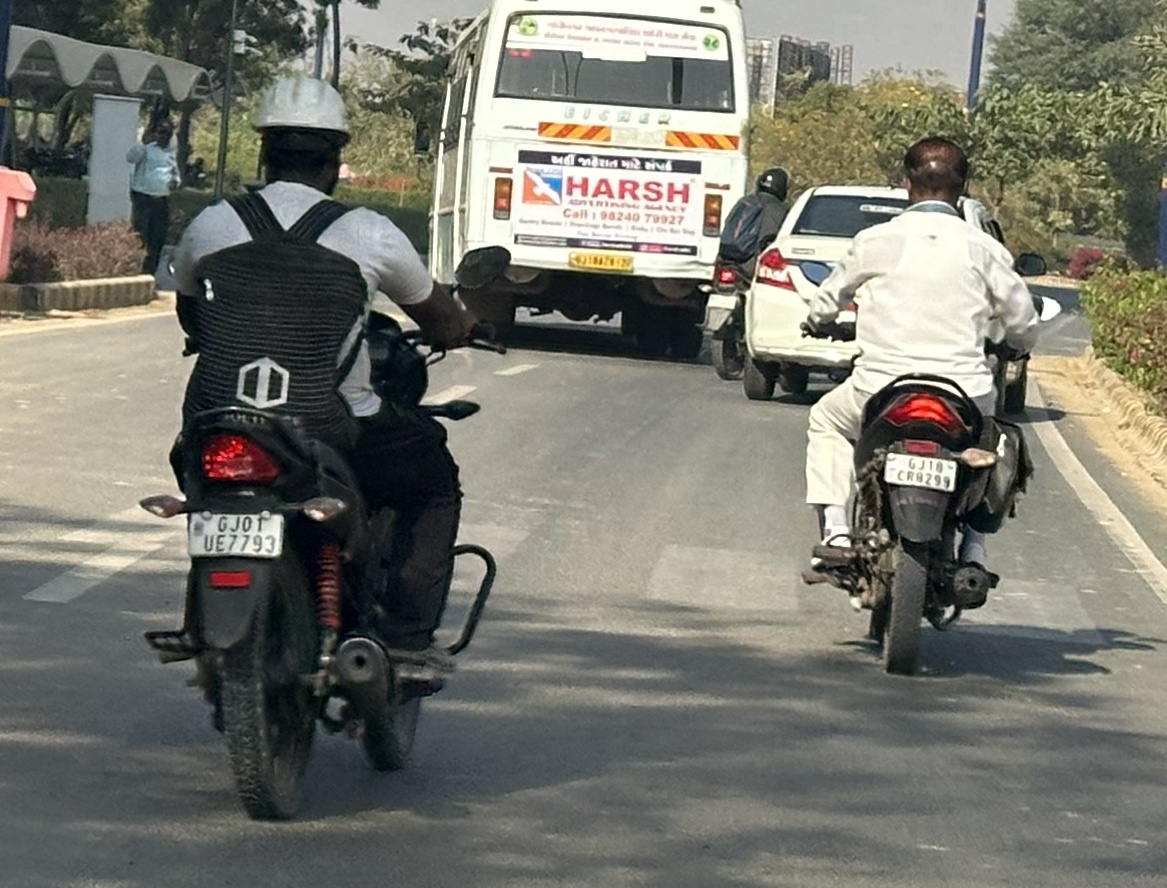BikeWithRider: (139, 76, 517, 815), (796, 130, 1061, 682), (700, 161, 796, 382)
Helmet: (245, 76, 357, 202), (751, 161, 793, 206)
NoHelmet: (895, 130, 976, 210)
